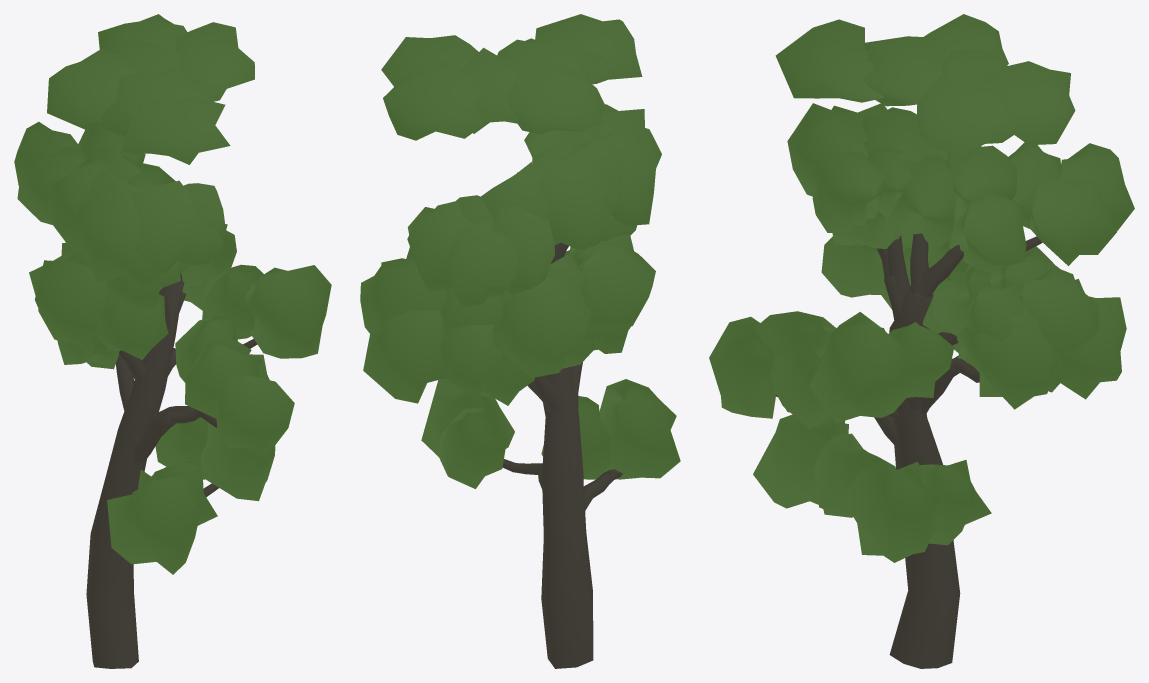
Rendered from Blender_ShorePine_2.glb.
The picture shows the model from 3 angles, left to right: view 1: azimuth 30°, elevation 25°; view 2: azimuth 150°, elevation 25°; view 3: azimuth 270°, elevation 25°; orthographic projection. The views are drawn at different scales.
Visible parts, largest first — view 1: Blender_ShorePine_2; view 2: Blender_ShorePine_2; view 3: Blender_ShorePine_2.
Boxes of the visible parts, x1=… form: Blender_ShorePine_2: x1=14, y1=14, x2=331, y2=668; Blender_ShorePine_2: x1=360, y1=14, x2=680, y2=668; Blender_ShorePine_2: x1=709, y1=14, x2=1134, y2=668.
Size of the model in its own units: 5.21 by 10.93 by 6.62.
